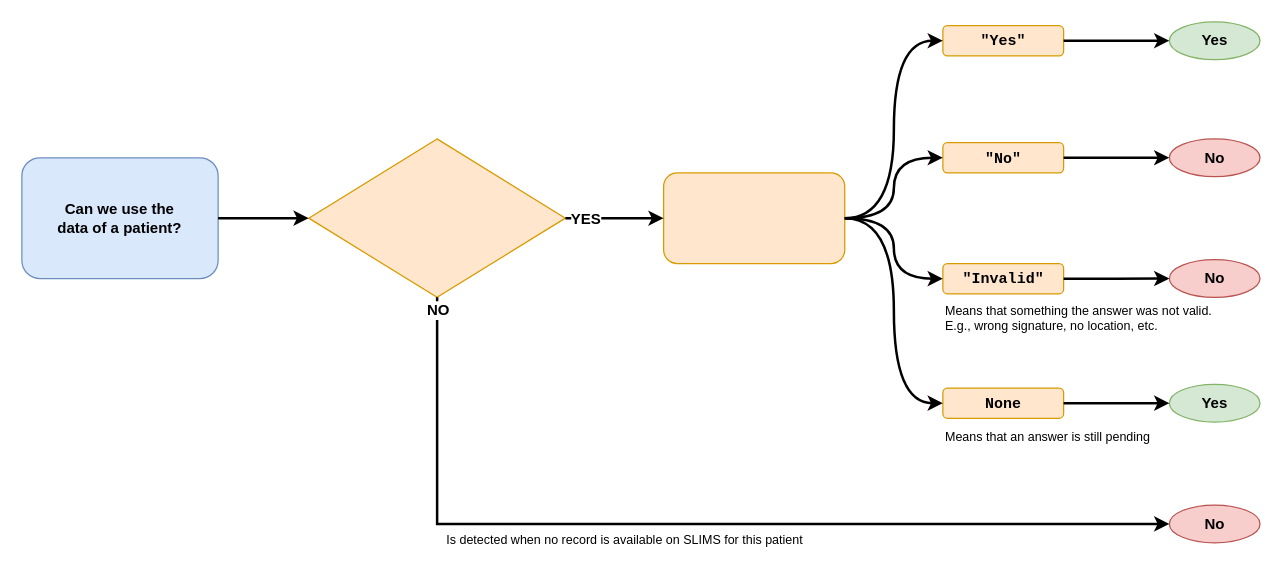
The diagram is 1283 pixels wide and 580 high, and some of its shapes have lost their labels. Each missing label, with the centre of its shape:
"CGStatus is" belongs at (x=753, y=218).
"Has a consent form been sent to the patient?" belongs at (x=436, y=217).
